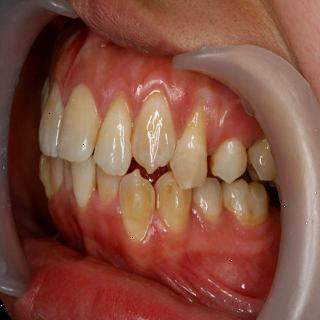LL1BC_healthy: (156, 172, 192, 229)
LL1M_decay: (223, 180, 269, 224)
LL2BC_healthy: (193, 178, 222, 219)
LLCI_healthy: (71, 161, 94, 207)
LLC_decay: (119, 170, 156, 241)
LLLI_healthy: (97, 167, 119, 203)
UL1BC_decay: (170, 108, 208, 190)
UL1M_decay: (248, 138, 277, 181)
UL2BC_decay: (209, 138, 246, 184)
ULCI_healthy: (57, 82, 98, 161)
ULC_decay: (133, 92, 176, 172)
ULLI_decay: (95, 93, 133, 175)
URCI_decay: (39, 85, 62, 156)
